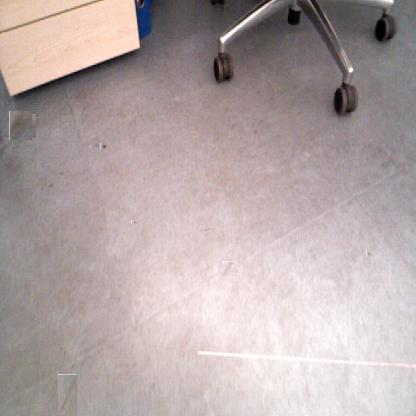mark: (58, 374, 78, 415), (8, 112, 34, 139), (222, 262, 237, 276), (202, 224, 212, 234), (100, 143, 107, 150), (50, 181, 56, 189), (366, 249, 371, 257), (252, 128, 258, 134), (132, 220, 138, 225), (57, 172, 63, 177), (94, 142, 99, 147)
